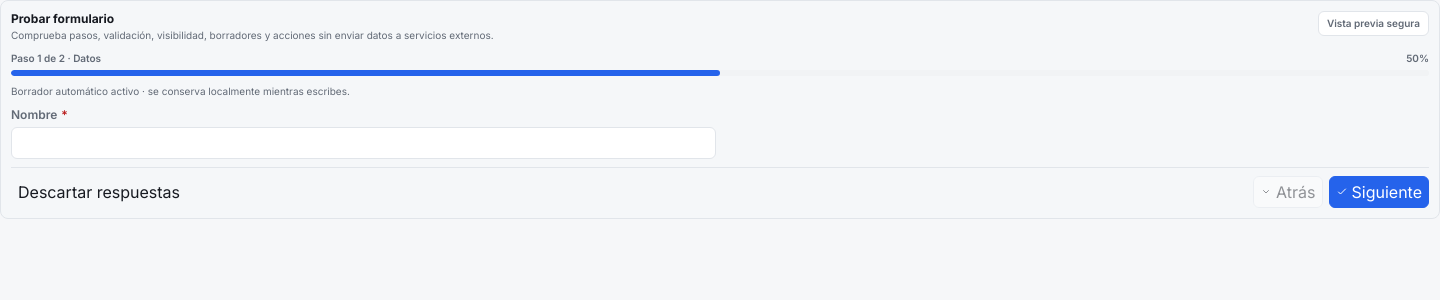
Test: M11.3/M11.4 FormValidationPreview › no simula éxito para integraciones externas sin adapter y conserva el borrador
In the field labelled "Nombre*": [364, 143] box [11, 127, 716, 159], type "Ada"
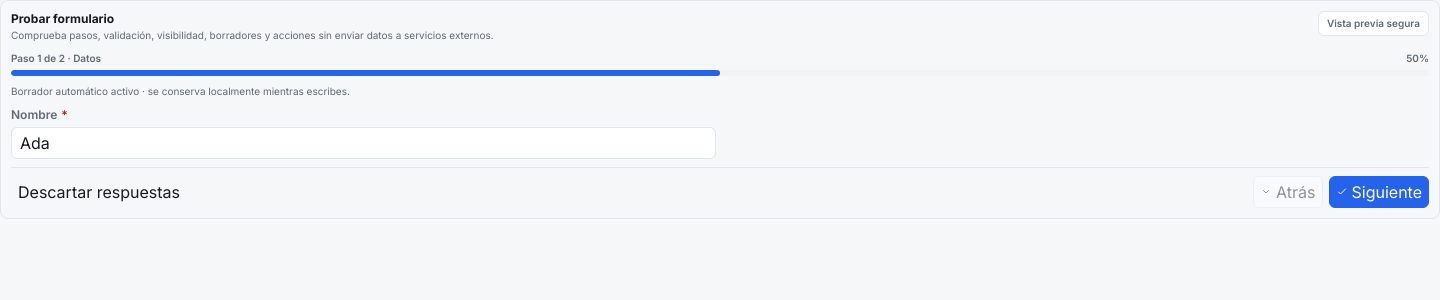
Click the button "Siguiente": [1379, 192] box [1328, 176, 1429, 208]
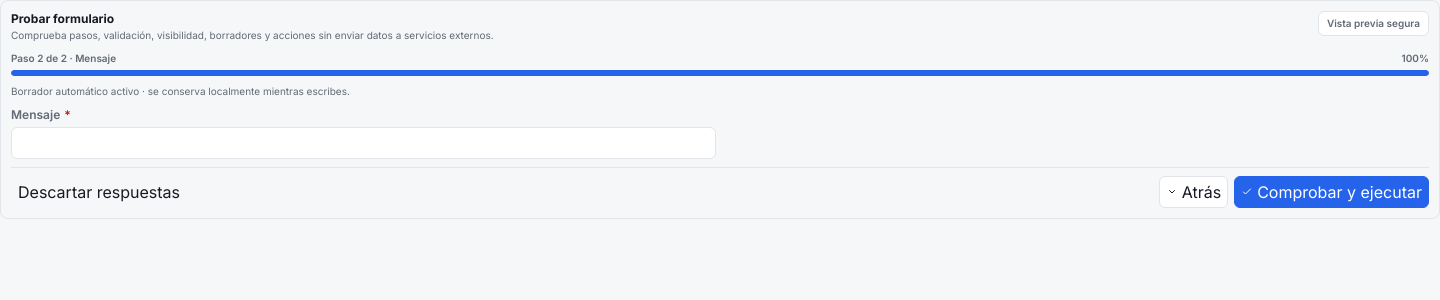
In the field labelled "Mensaje*": [364, 143] box [11, 127, 716, 159], type "Hola"
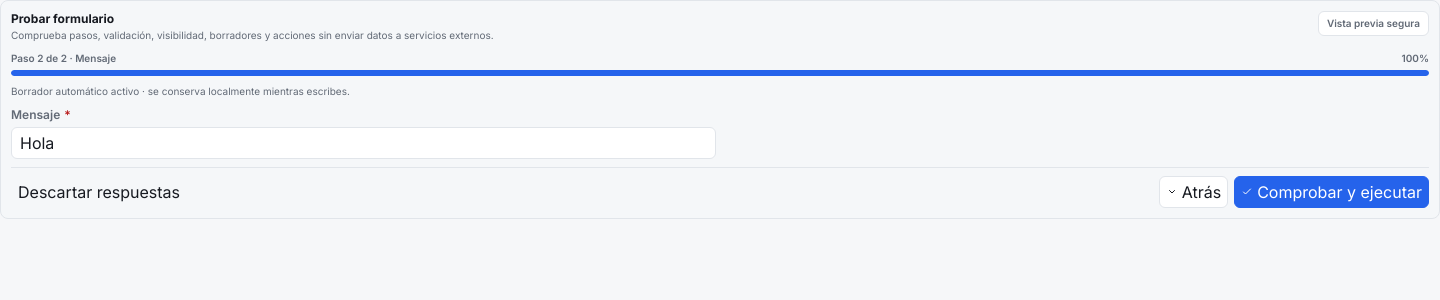
Click the button "Comprobar y ejecutar": [1332, 192] box [1234, 176, 1429, 208]
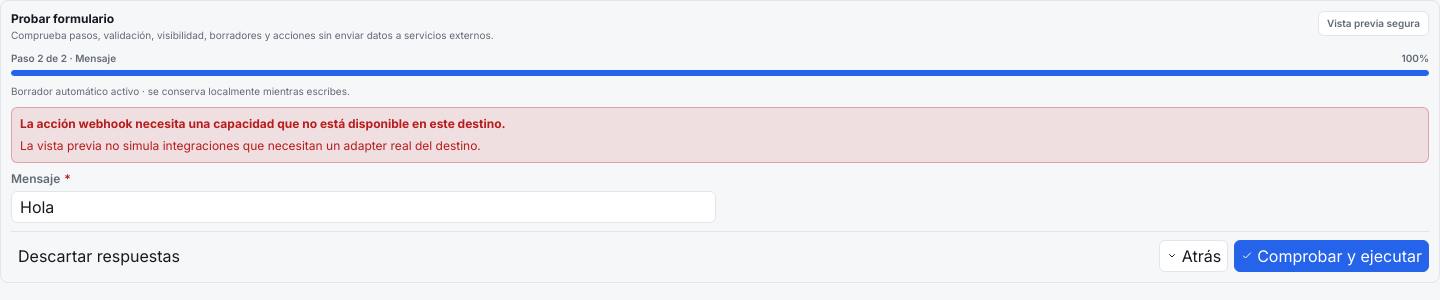
Now the text "necesita una capacidad que no está disponible" is shown, box [20, 116, 506, 131]
Now the text "no simula integraciones" is shown, box [20, 138, 481, 153]
